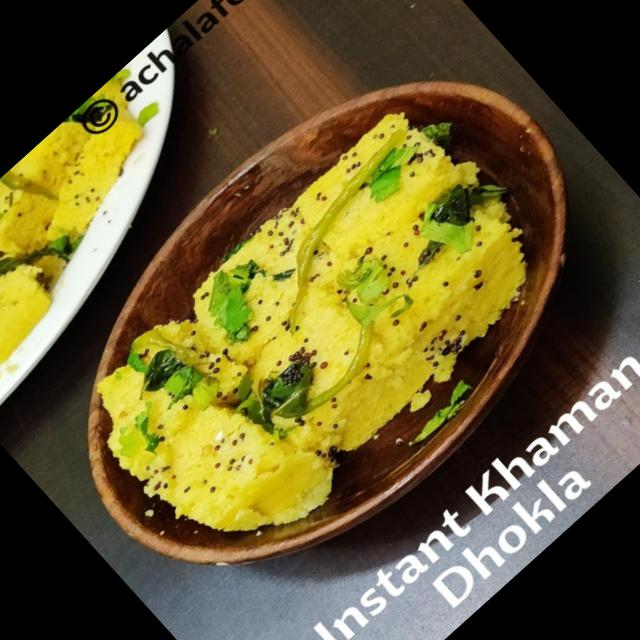dhokla: (57, 77, 580, 584), (0, 64, 219, 399)
